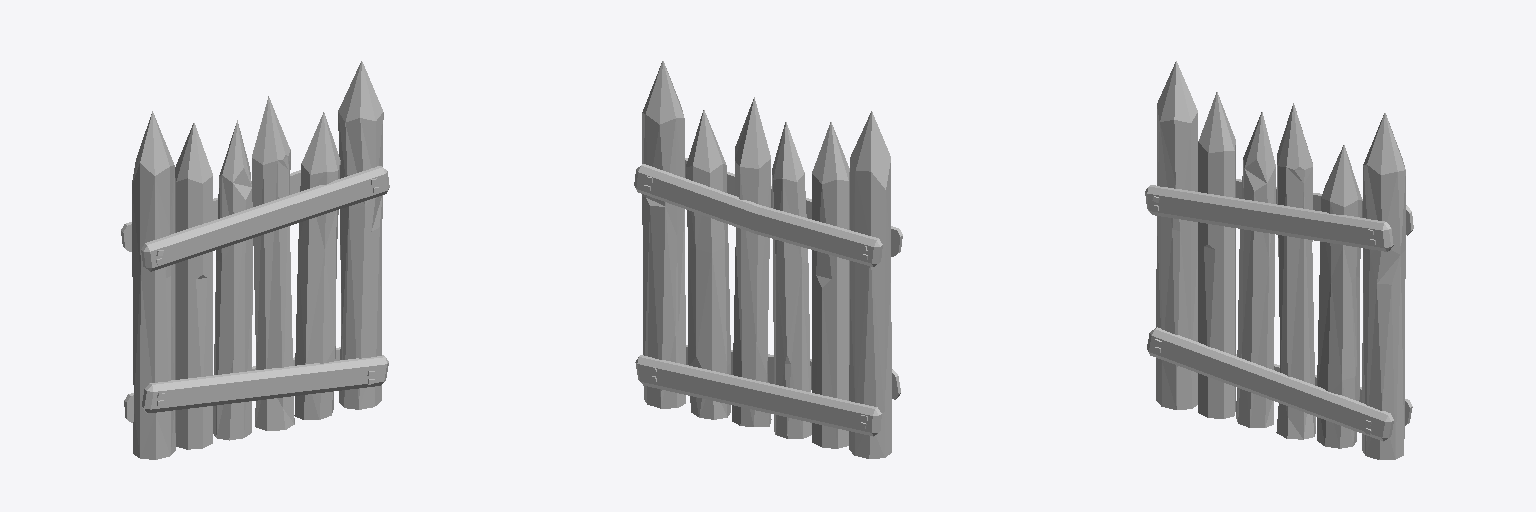
Rendered from Fence_1_4.obj.
The picture shows the model from 3 angles: view 1: azimuth 30°, elevation 25°; view 2: azimuth 150°, elevation 25°; view 3: azimuth 330°, elevation 25°; orthographic projection.
Visible parts, largest first — view 1: Fence_1_4; view 2: Fence_1_4; view 3: Fence_1_4.
Part boxes in pixels (left/top/right/bottom): Fence_1_4: left=121, top=61, right=389, bottom=459; Fence_1_4: left=634, top=61, right=902, bottom=458; Fence_1_4: left=1145, top=61, right=1413, bottom=459.
Bounding box in the file's own units: 1.78 × 2.35 × 0.3682.